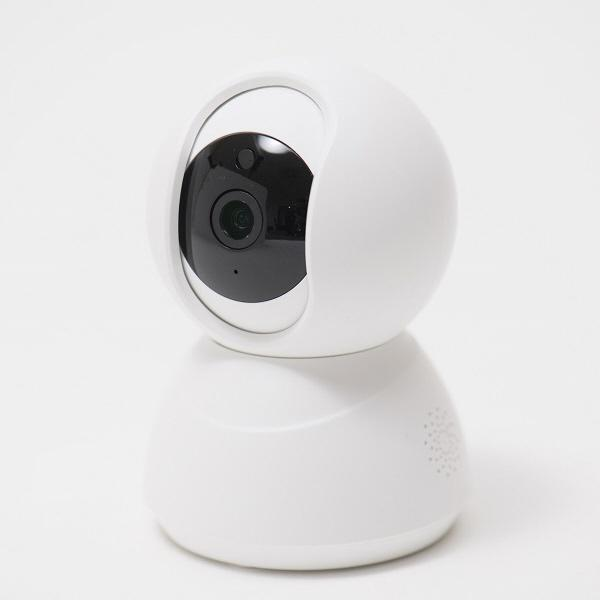maru: (141, 64, 472, 574)
